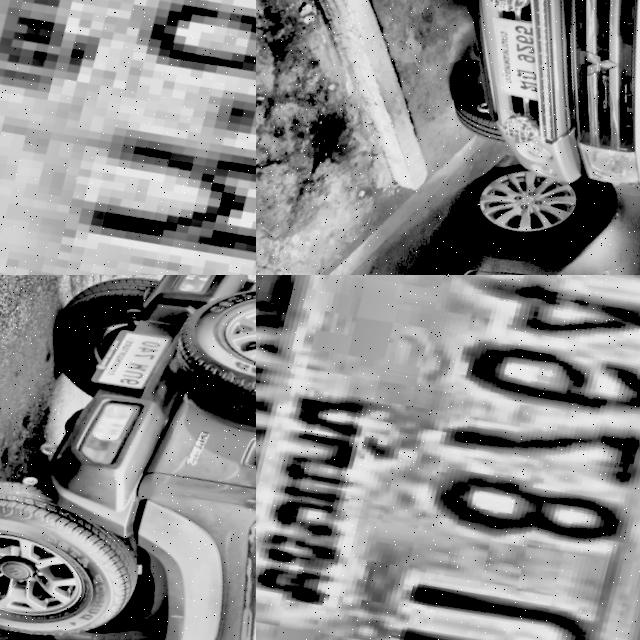license-plate: (256, 275, 640, 640), (0, 0, 256, 275), (470, 11, 570, 114), (84, 321, 176, 408)
